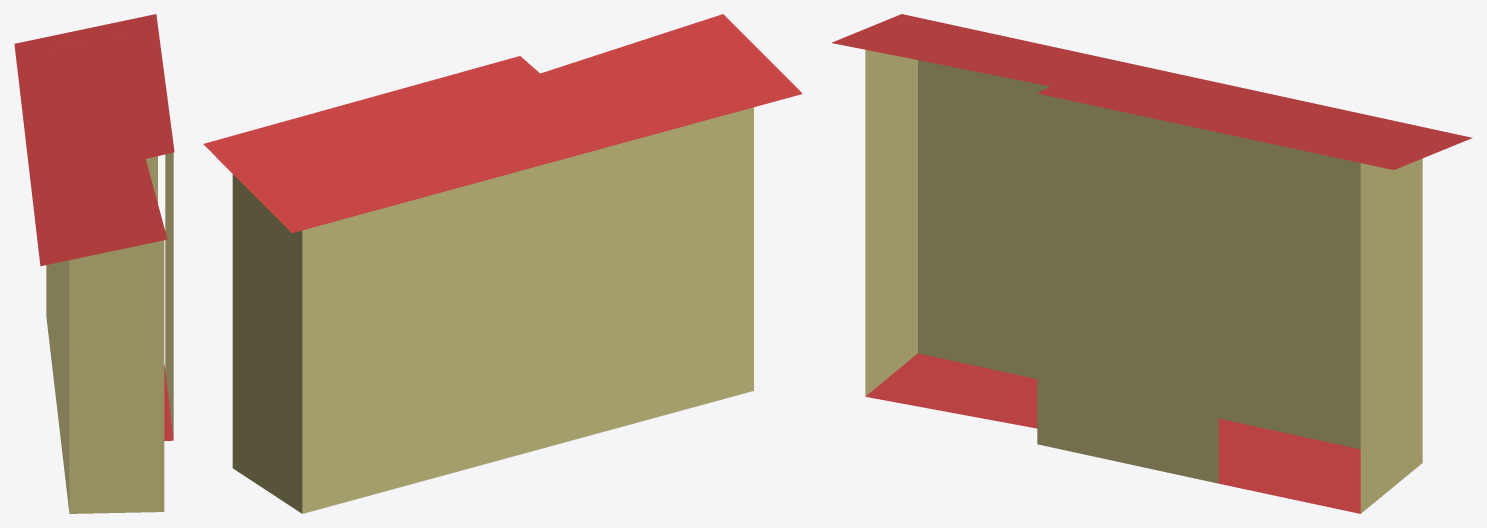
3 views of the same model, side by side, from view 1: azimuth 30°, elevation 25°; view 2: azimuth 150°, elevation 25°; view 3: azimuth 270°, elevation 25° (orthographic). The views are drawn at different scales.
Size of the model in its own units: 9.01 by 12.93 by 7.81.
